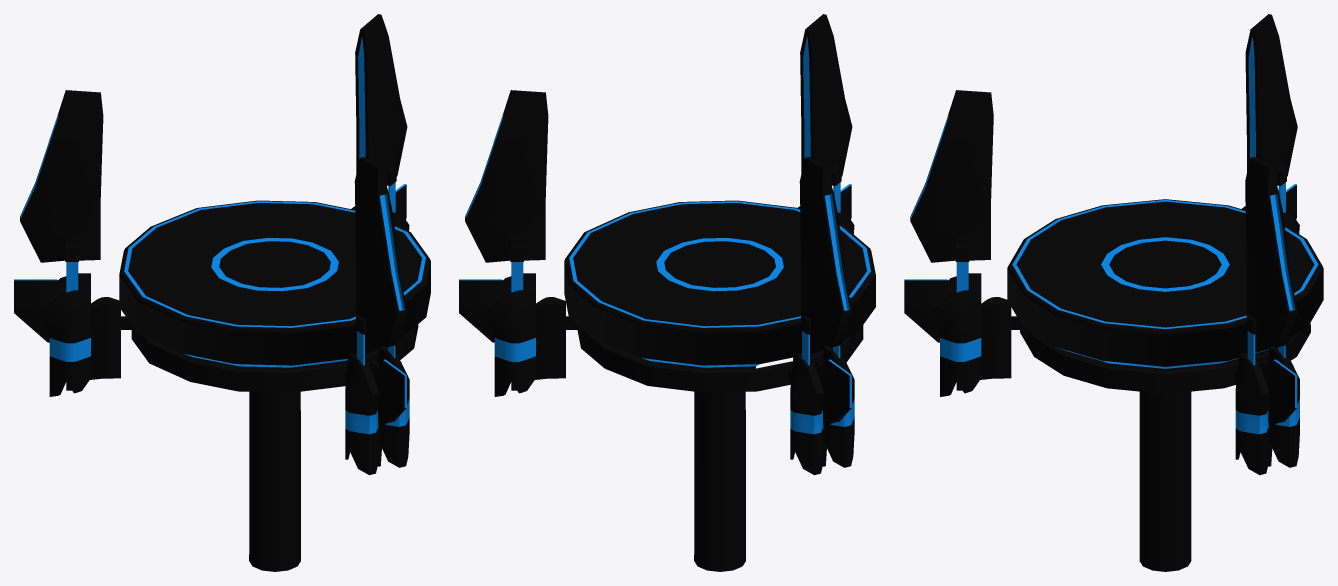
File: Rotating 3 arms.FBX
3 renders of one model, left to right at view 1: azimuth 30°, elevation 25°; view 2: azimuth 150°, elevation 25°; view 3: azimuth 270°, elevation 25°, orthographic.
Visible parts, largest first — view 1: Rotating 3 arms001, rotating 3 arms; view 2: Rotating 3 arms001, rotating 3 arms; view 3: Rotating 3 arms001, rotating 3 arms.
Part boxes in pixels (x1,y1,x2,y2): Rotating 3 arms001: [14, 14, 418, 571]; rotating 3 arms: [119, 200, 430, 369]; Rotating 3 arms001: [459, 14, 863, 571]; rotating 3 arms: [564, 200, 875, 369]; Rotating 3 arms001: [904, 14, 1310, 571]; rotating 3 arms: [1007, 199, 1323, 370].
Bounding box in the file's own units: 551 × 630 × 509.
